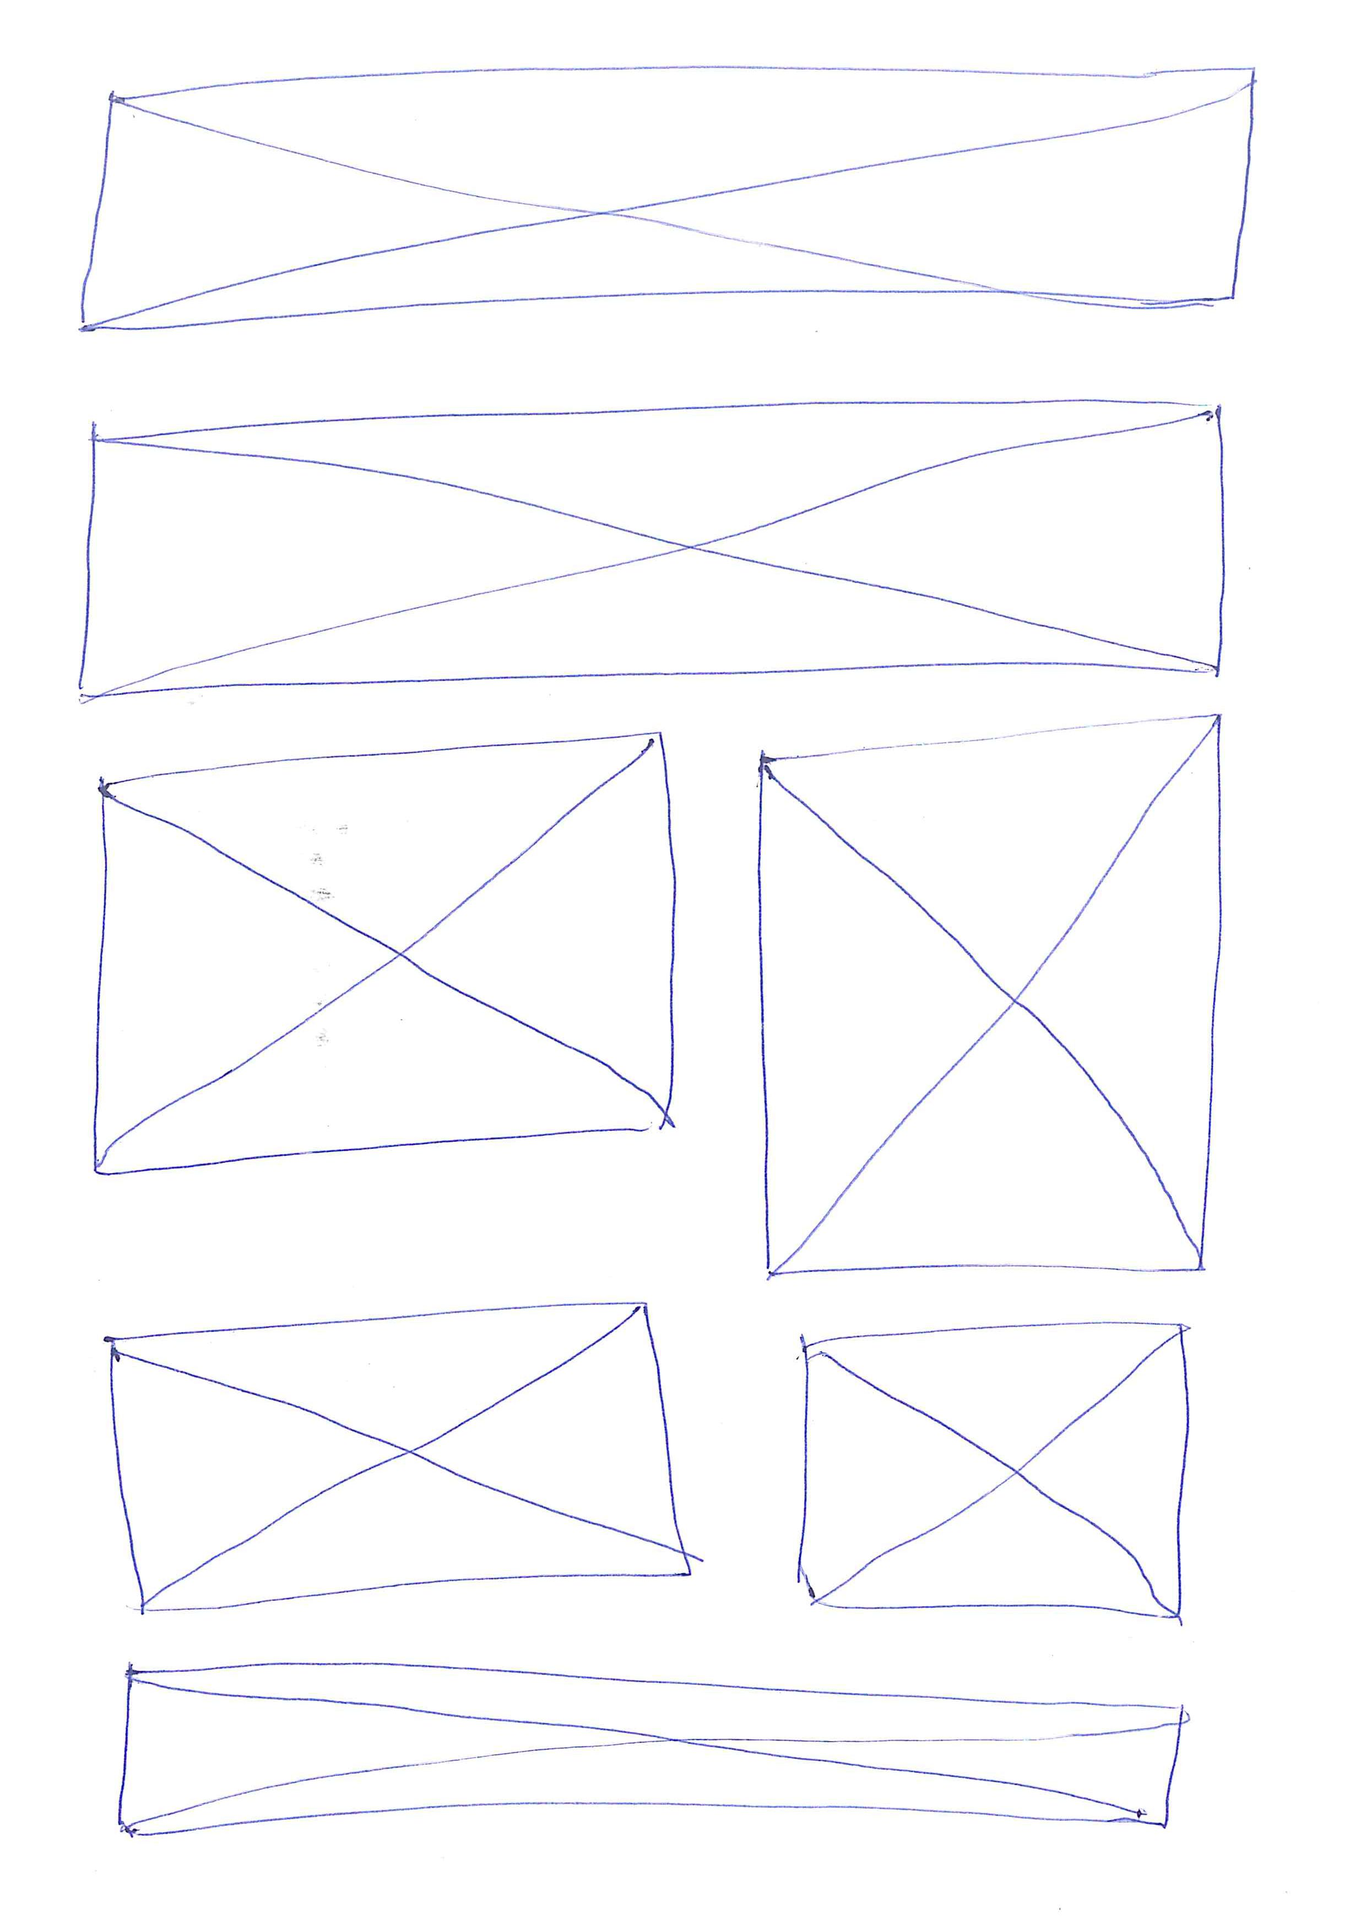Image: (71, 398, 1230, 702), (74, 59, 1263, 339), (751, 710, 1230, 1282), (86, 729, 677, 1178), (98, 1294, 689, 1621), (112, 1662, 1189, 1841), (789, 1317, 1197, 1621)
